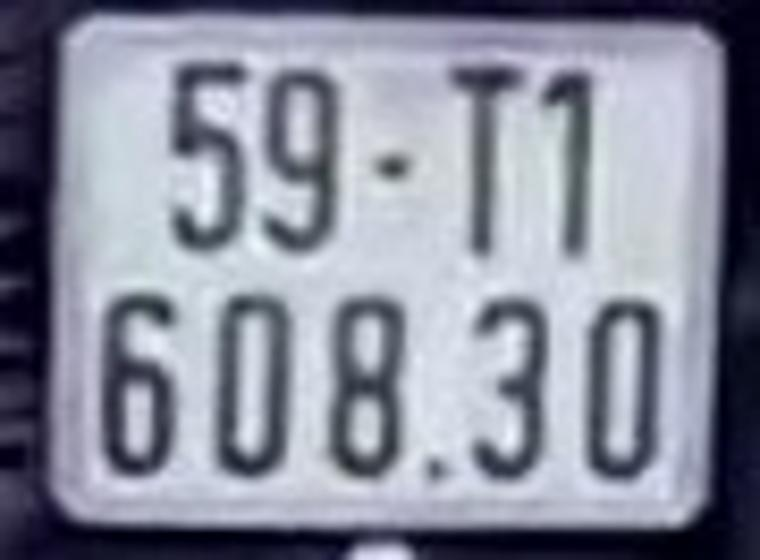-: (370, 142, 432, 192)
.: (418, 447, 456, 490)
0: (580, 297, 675, 487), (207, 291, 294, 486)
1: (539, 65, 606, 265)
3: (469, 295, 547, 487)
5: (161, 54, 255, 262)
6: (101, 274, 185, 484)
8: (326, 290, 410, 484)
9: (261, 67, 346, 260)
T: (432, 62, 527, 251)
